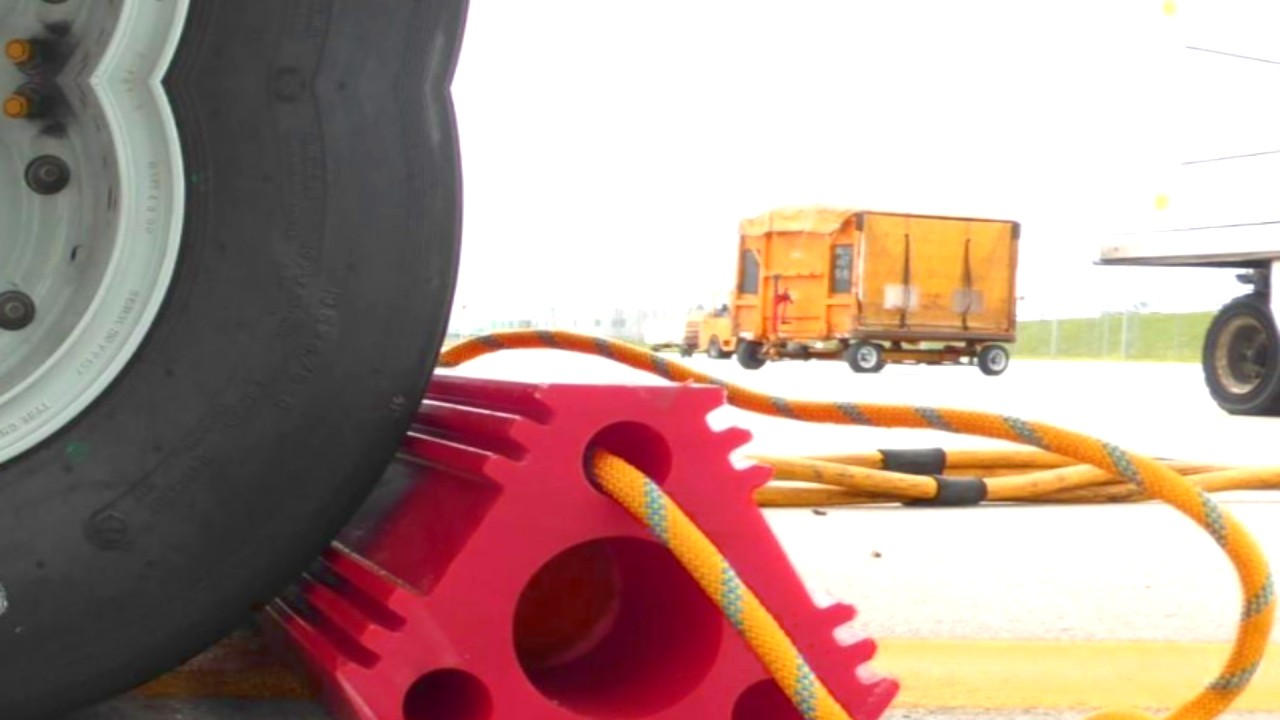chock: (244, 364, 914, 720)
wheel: (0, 75, 470, 720), (1201, 297, 1280, 416), (846, 339, 884, 372), (976, 343, 1008, 376), (736, 337, 768, 368), (701, 332, 728, 360)
